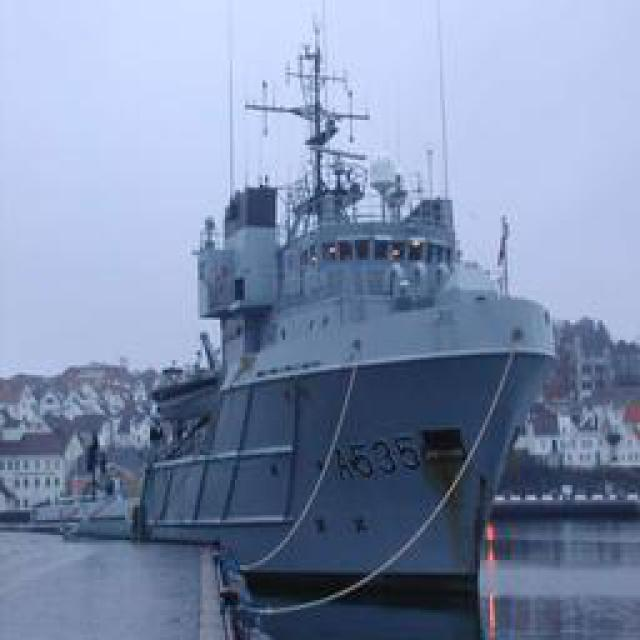Ship: (133, 13, 558, 628)
